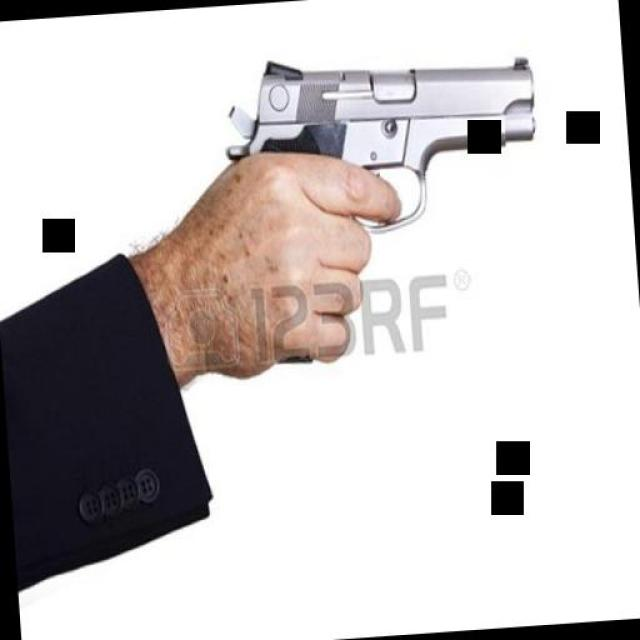gun: (203, 24, 558, 375)
